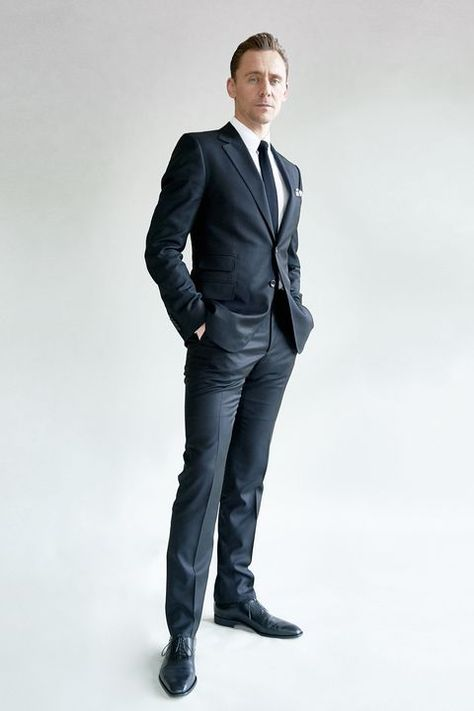person: (134, 31, 335, 702)
